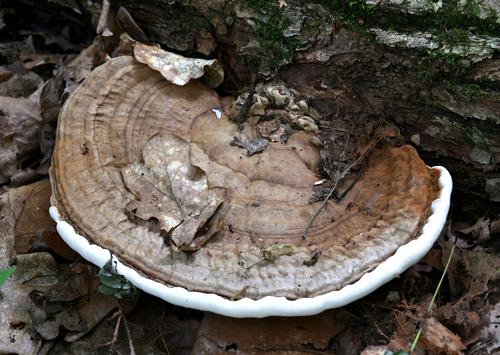Ganoderma - Fruit Body: (54, 52, 454, 318)
